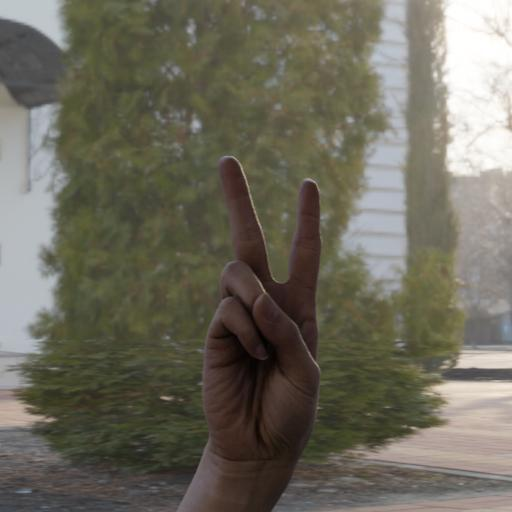V: (189, 127, 366, 512)
